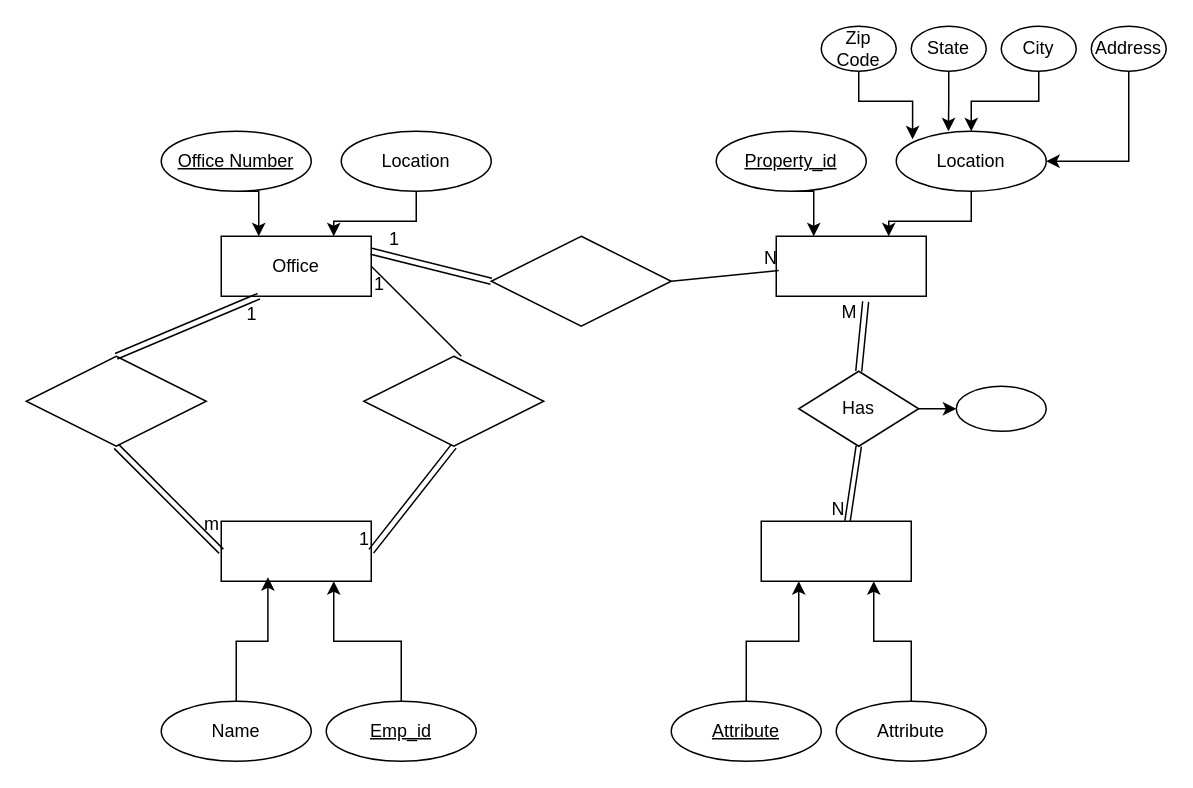
The diagram is 1193 pixels wide and 788 high, and some of its shapes have lost their labels. Each missing label, with the box of its shape:
Assigned: (25, 355, 206, 446)
Employee: (220, 520, 371, 581)
Listed: (490, 235, 671, 326)
Manage: (362, 355, 544, 446)
Owned Percent: (955, 385, 1046, 431)
Owner: (760, 520, 911, 581)
Property: (775, 235, 926, 296)
